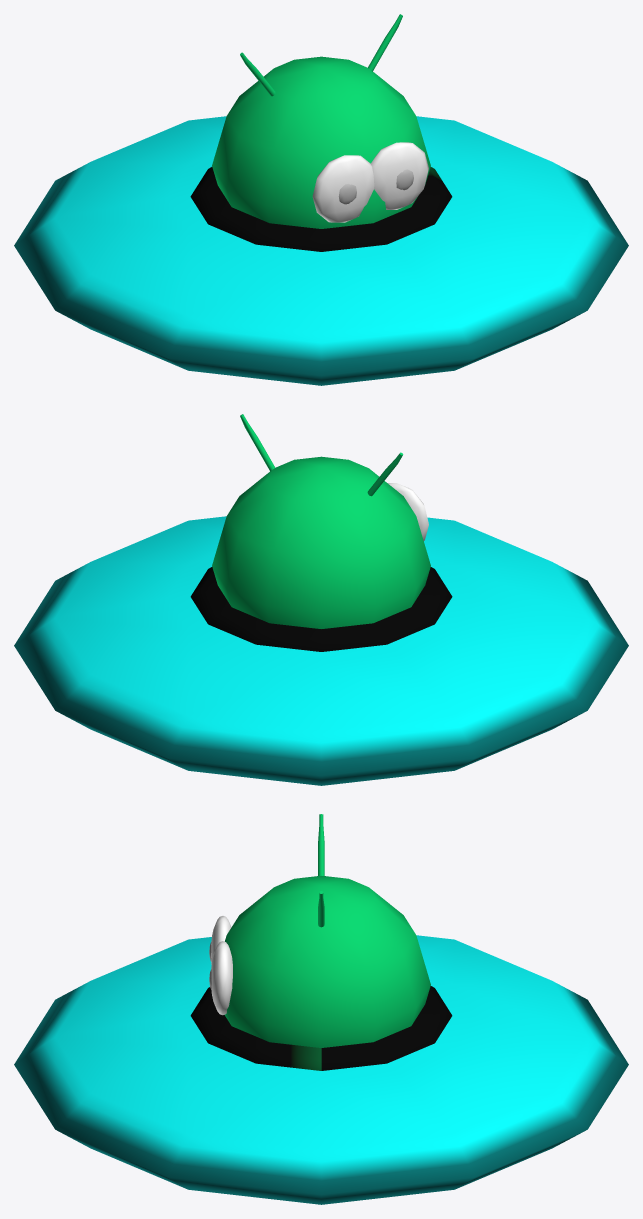
Rendered from alien2.fbx.
3 views of the same model, one above another, from view 1: azimuth 30°, elevation 25°; view 2: azimuth 150°, elevation 25°; view 3: azimuth 270°, elevation 25° (orthographic).
Parts seen in each view (by area): view 1: alien1; view 2: alien1; view 3: alien1.
Boxes of the visible parts, bbox=[...] form: alien1: bbox=[14, 14, 628, 385]; alien1: bbox=[14, 414, 628, 785]; alien1: bbox=[14, 814, 628, 1204].
Bounding box in the file's own units: 0.0126 × 0.00602 × 0.0126.
1 material, 1 textured.
